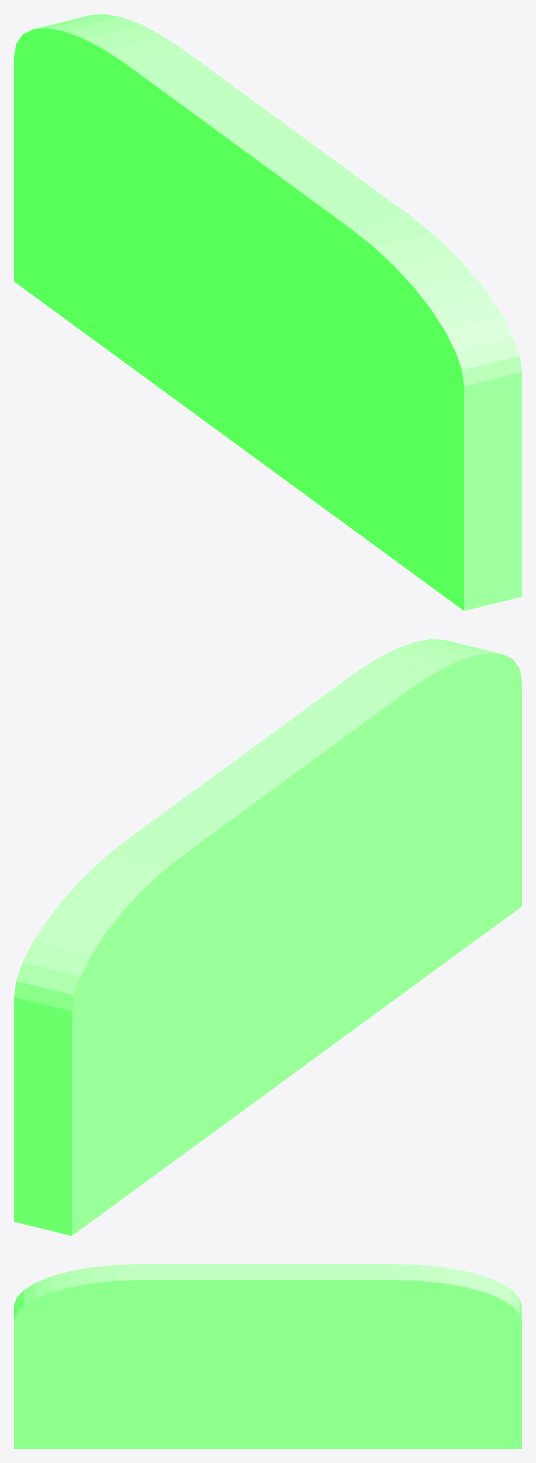
File: barrier.fbx
3 views of the same model, one above another, from view 1: azimuth 30°, elevation 25°; view 2: azimuth 150°, elevation 25°; view 3: azimuth 270°, elevation 25° (orthographic). The views are drawn at different scales.
Visible parts, largest first — view 1: Cube; view 2: Cube; view 3: Cube.
Part boxes in pixels (x1=…): Cube: x1=14, y1=14, x2=521, y2=610; Cube: x1=14, y1=639, x2=521, y2=1235; Cube: x1=14, y1=1264, x2=521, y2=1448.
Size of the model in its own units: 115 by 568 by 1549.
